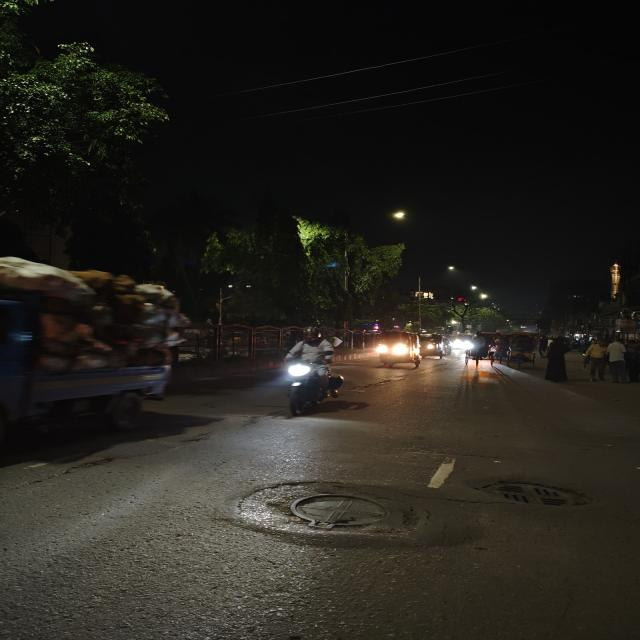cng: (375, 330, 420, 369), (422, 331, 451, 361)
motorcycle: (270, 328, 348, 418)
pedestrian: (541, 334, 576, 382), (605, 333, 633, 382), (582, 337, 610, 383)
pickup_van: (0, 250, 188, 478)
rickshaw: (462, 333, 502, 367), (509, 330, 539, 365), (420, 331, 450, 361)
